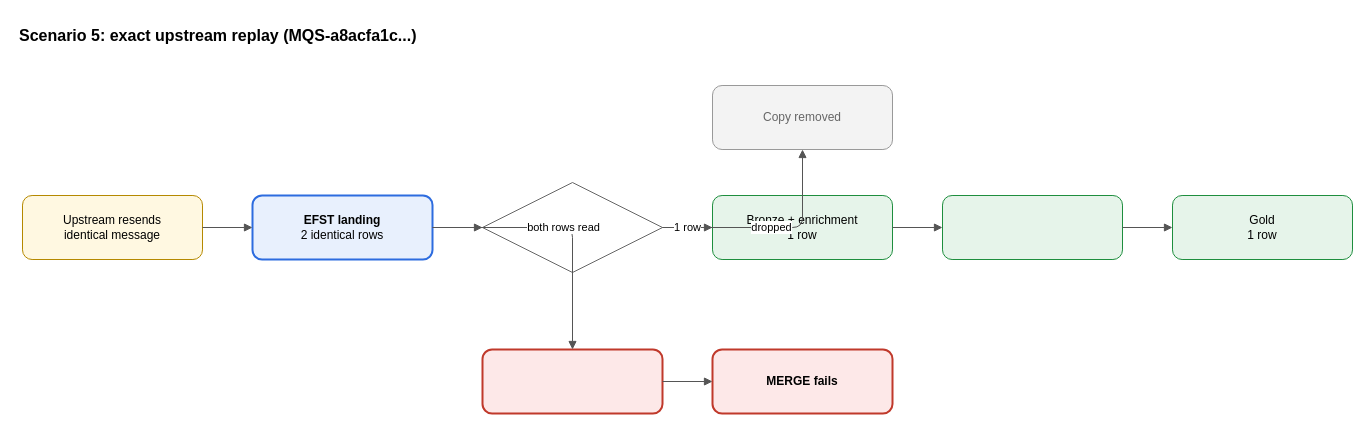
This 1370x431 diagram has some shape labels left out. Here are the shapes that lost their labels. From the top down, the centre of each, then its label:
At (x=572, y=227): "Ingestion dedup".
At (x=1032, y=227): "Silver 1 row".
At (x=572, y=381): "DVLA step 1 2 identical source rows match same target".
